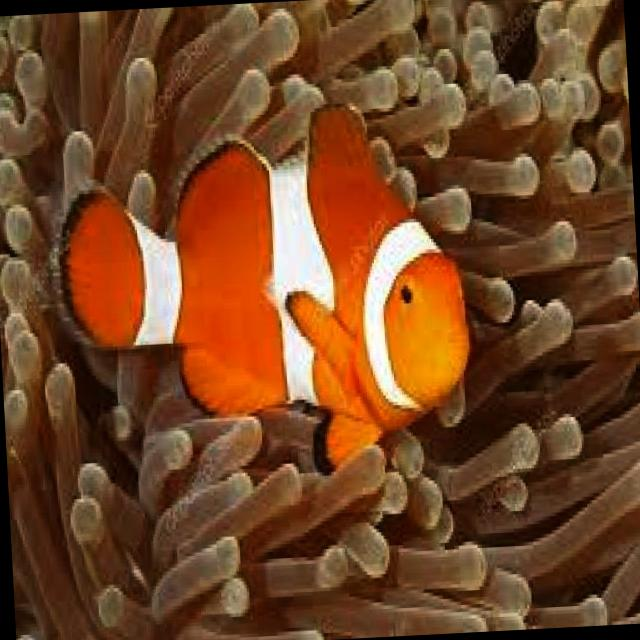ClownFish: (52, 96, 481, 487)
